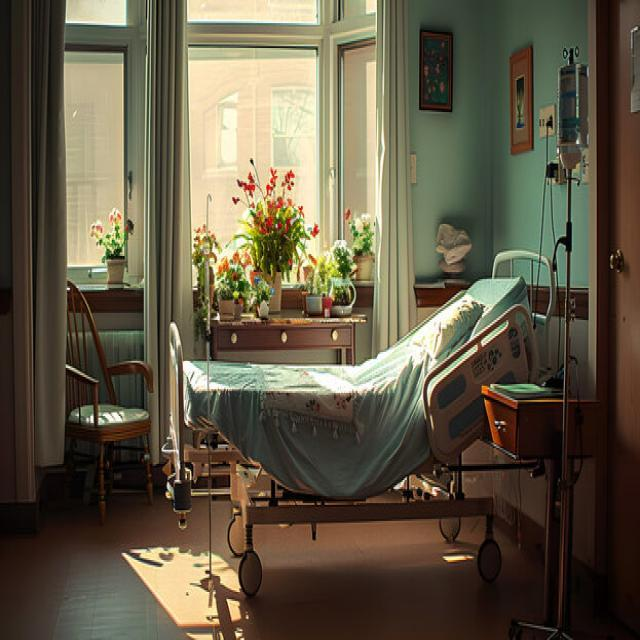Saline Stand: (513, 39, 588, 640)
bed: (165, 247, 554, 596)
chair: (49, 237, 174, 510)
